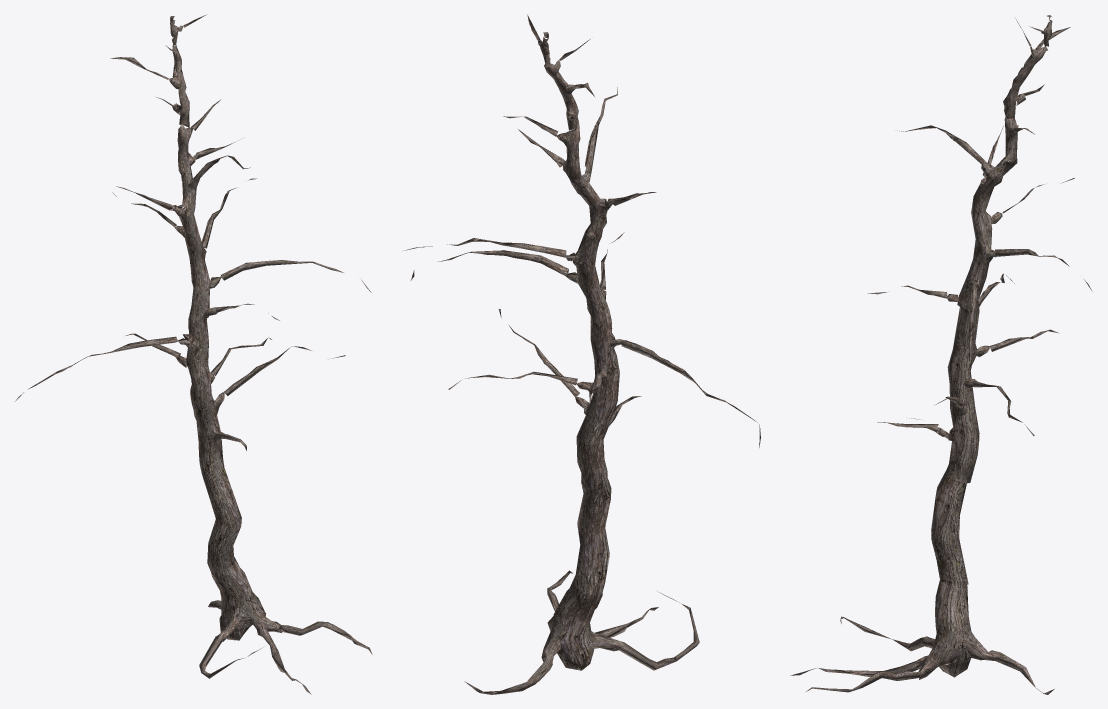
The model's file is tree_4_lod.dae.
3 views of the same model, side by side, from view 1: azimuth 30°, elevation 25°; view 2: azimuth 150°, elevation 25°; view 3: azimuth 270°, elevation 25° (orthographic). The views are drawn at different scales.
Visible parts, largest first — view 1: P3D_DeadTree1; view 2: P3D_DeadTree1; view 3: P3D_DeadTree1.
Part boxes in pixels (x1,y1,x2,y2): P3D_DeadTree1: (15, 14, 372, 694); P3D_DeadTree1: (403, 14, 760, 694); P3D_DeadTree1: (790, 15, 1092, 694).
Bounding box in the file's own units: 3.62 × 2.63 × 6.26.
